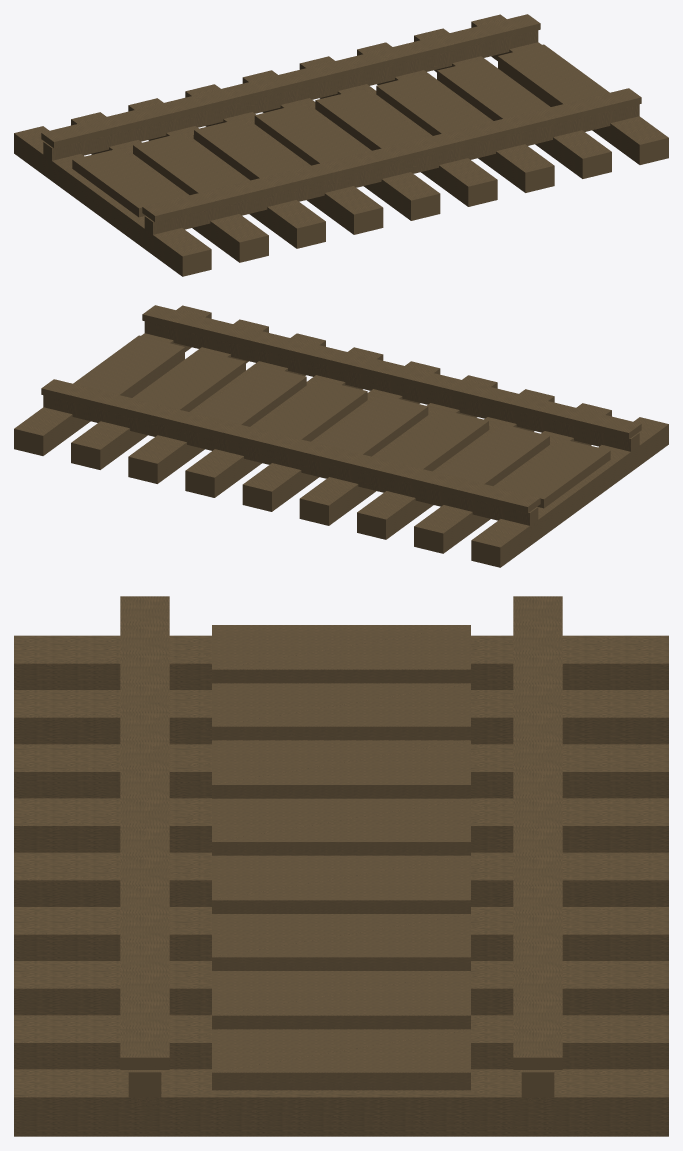
Rendered from rail-platform.glb.
3 views of the same model, one above another, from view 1: azimuth 30°, elevation 25°; view 2: azimuth 150°, elevation 25°; view 3: azimuth 270°, elevation 25° (orthographic). The views are drawn at different scales.
Visible parts, largest first — view 1: LOD0; view 2: LOD0; view 3: LOD0.
Boxes of the visible parts, x1,y1,x2,y2 form: LOD0: (14, 14, 668, 276); LOD0: (14, 305, 668, 567); LOD0: (14, 596, 668, 1136).
Bounding box in the file's own units: 4 × 0.32 × 2.4.
Materials: 1 (1 with a texture image).
